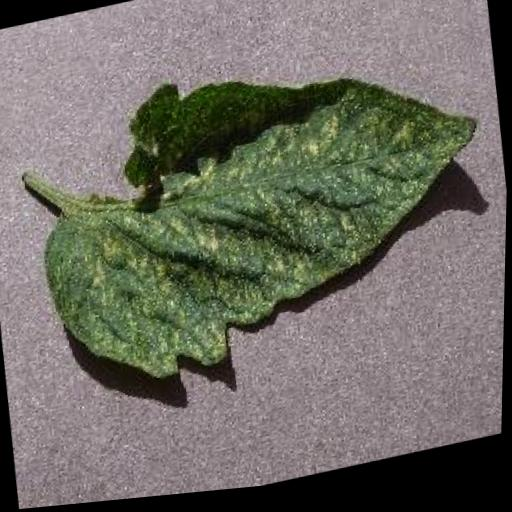Spider Mites: (22, 24, 505, 410)
